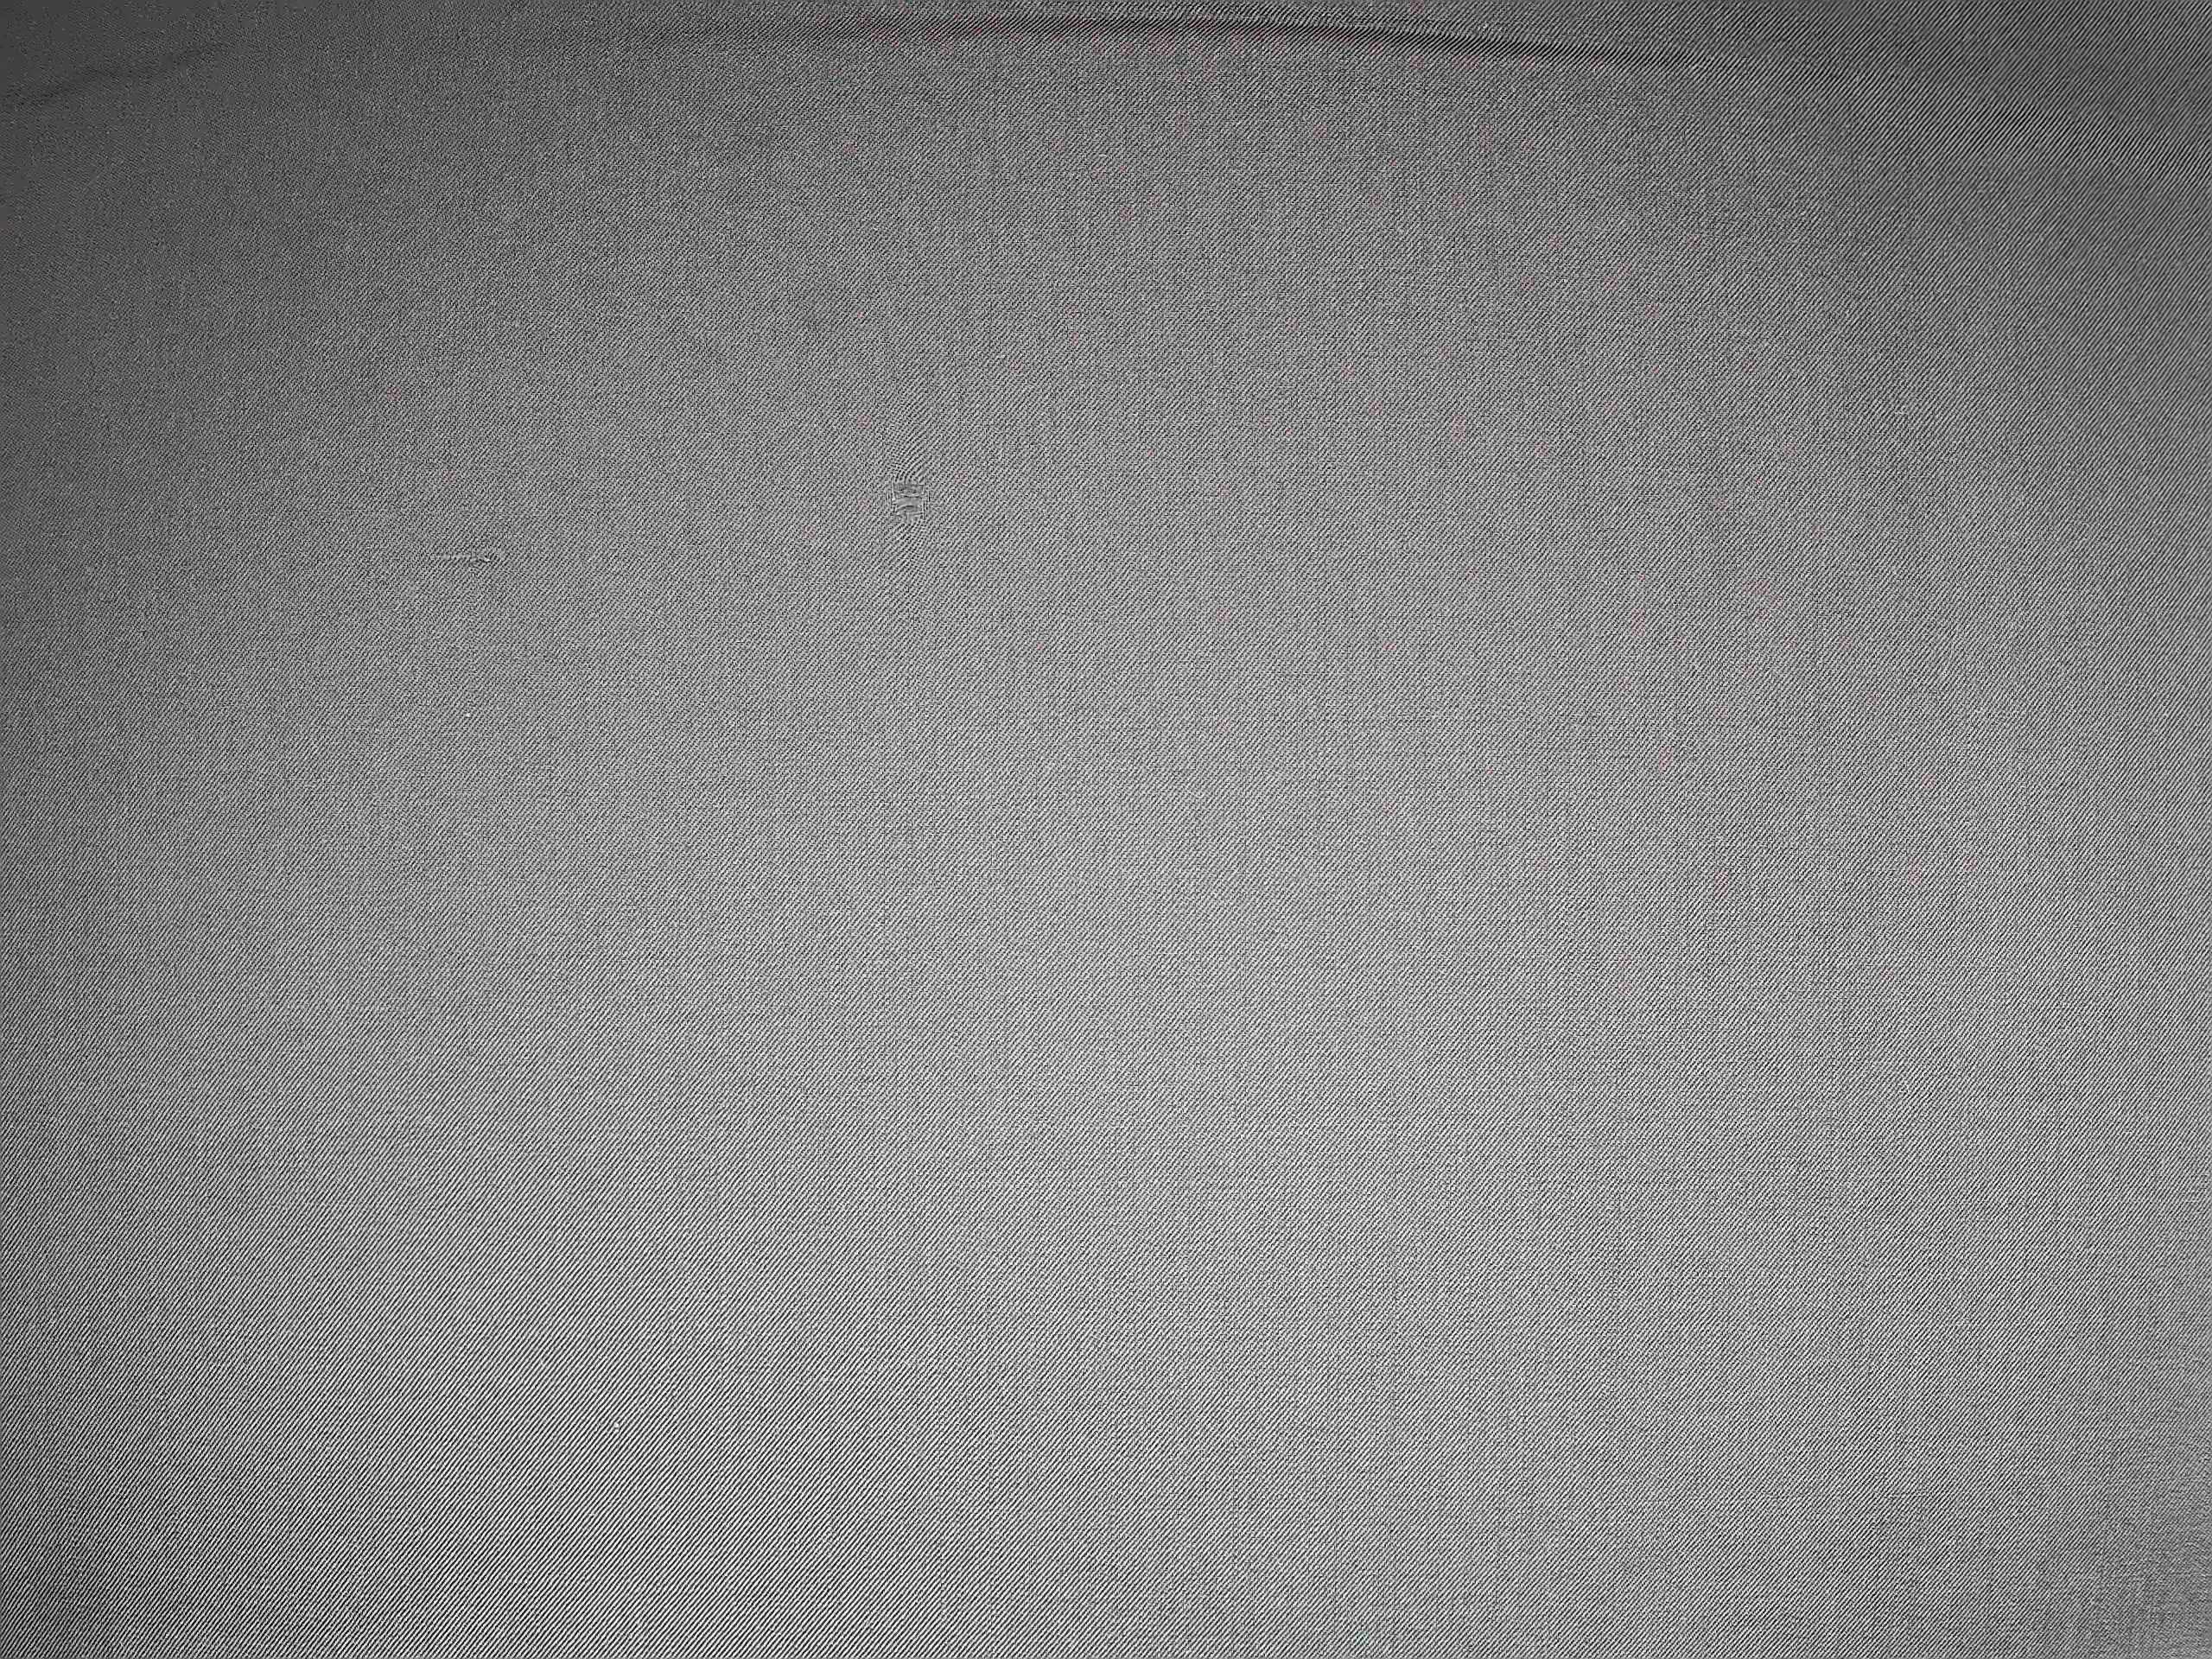brushed-hole: (859, 443, 961, 561)
others: (395, 528, 542, 591)
